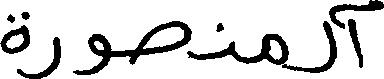X: (138, 16, 188, 62), (352, 0, 383, 72), (0, 7, 29, 78), (76, 29, 109, 78), (31, 32, 59, 78), (264, 29, 284, 72), (327, 0, 334, 78), (229, 36, 235, 63)
